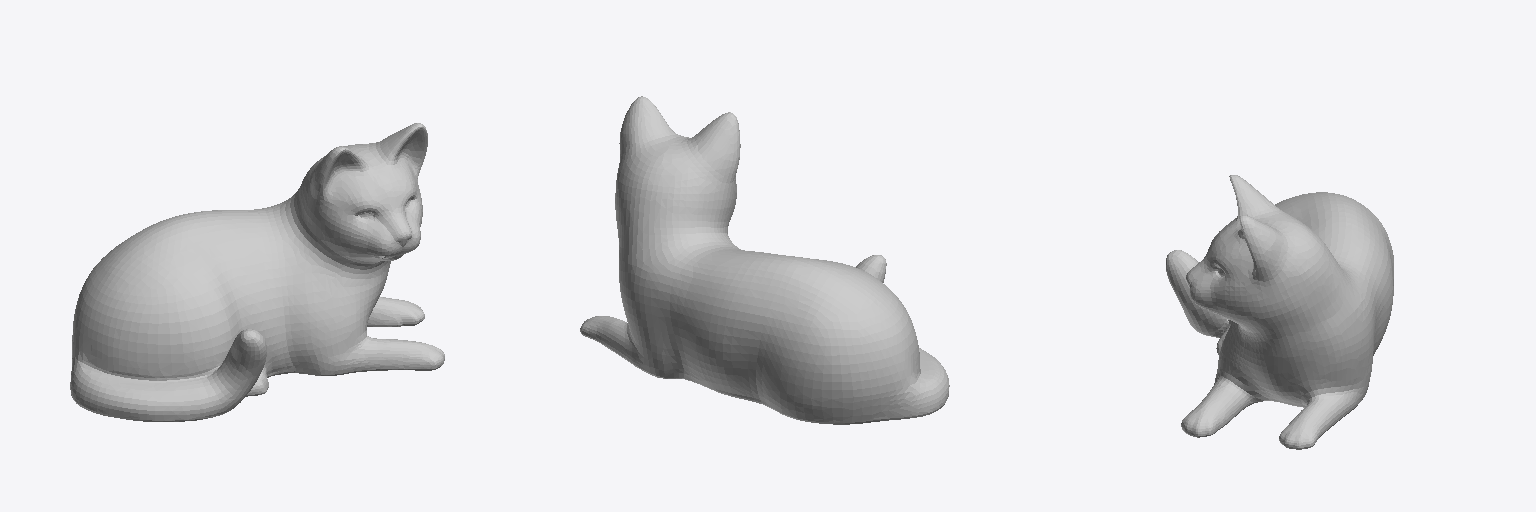
The model's file is cat.obj.
3 renders of one model, left to right at view 1: azimuth 30°, elevation 25°; view 2: azimuth 150°, elevation 25°; view 3: azimuth 270°, elevation 25°, orthographic.
Size of the model in its own units: 600 by 361 by 339.